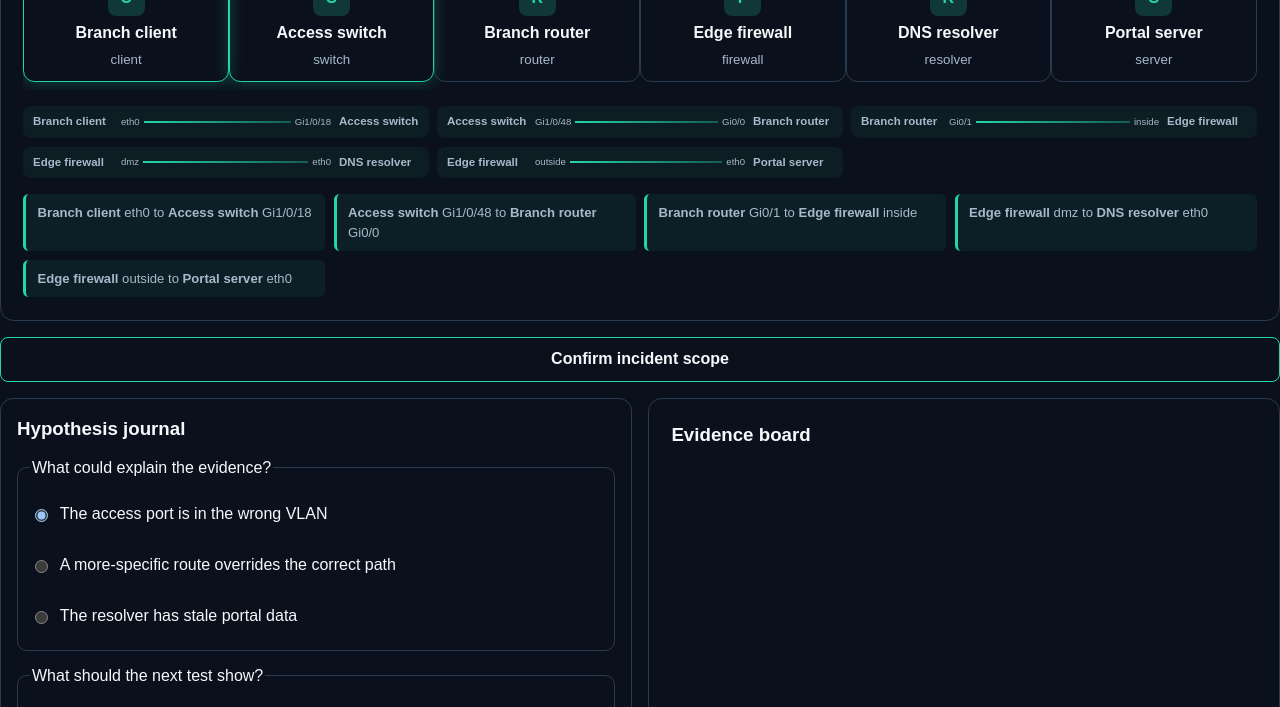
Test case: TroubleshootingWorkspace › explains premature remediation and records incorrect tests
(page scrolled)
Step 1. Click the button "Confirm incident scope" → (640, 359), box 0,337 -> 1279,382
(page scrolled)
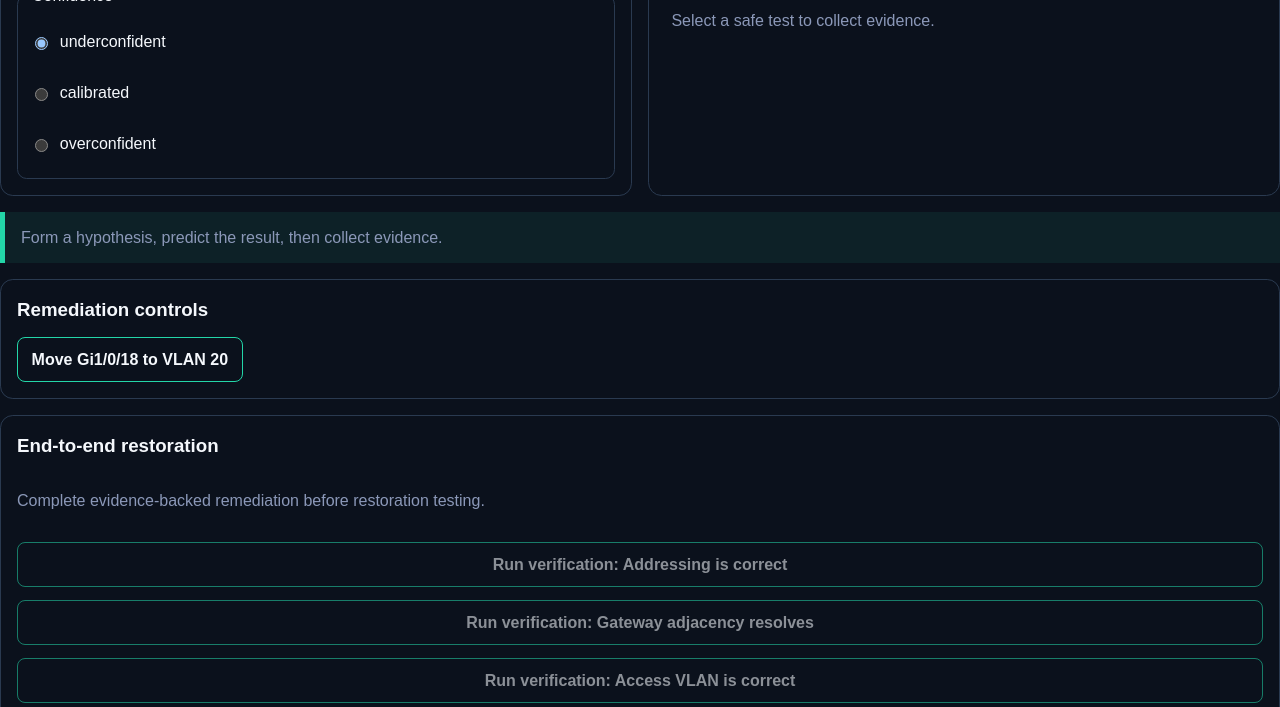
Step 2. Click the button "Move Gi1/0/18 to VLAN 20" → (130, 360), box 17,337 -> 243,382
(page scrolled)
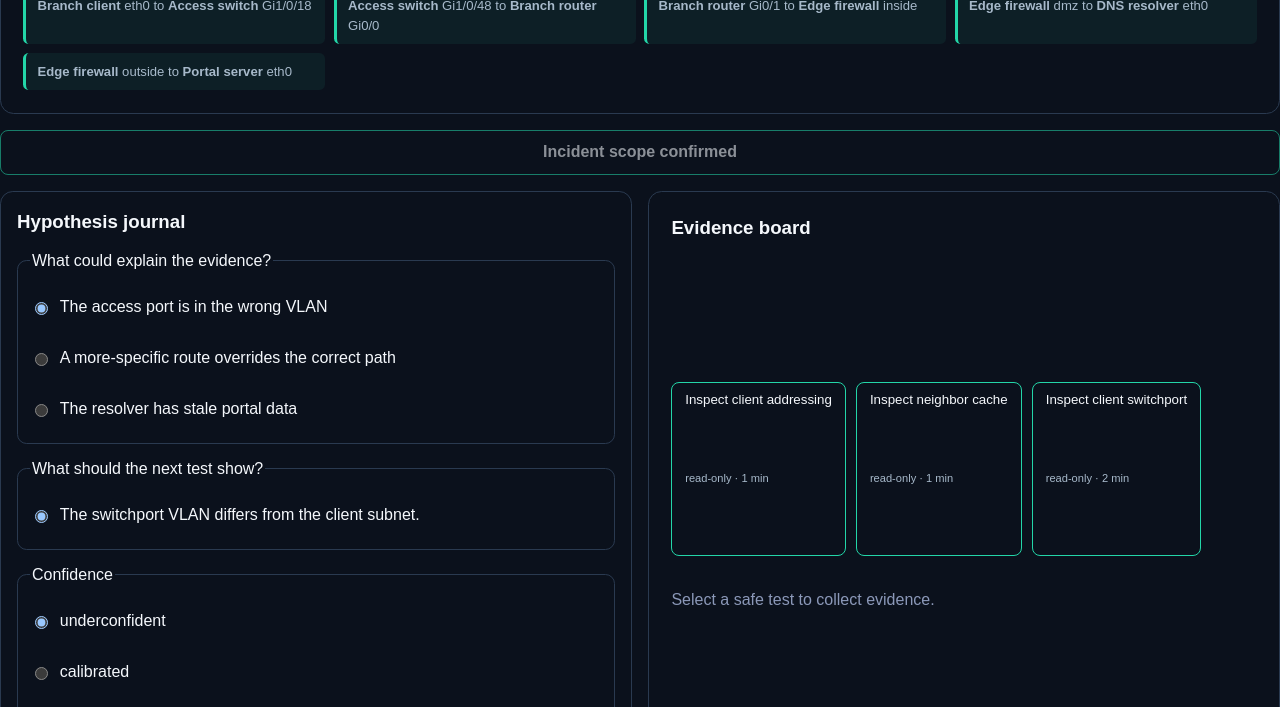
Step 3. Click the radio button labelled "A more-specific route overrides the correct path" → (42, 360), box 35,353 -> 48,366
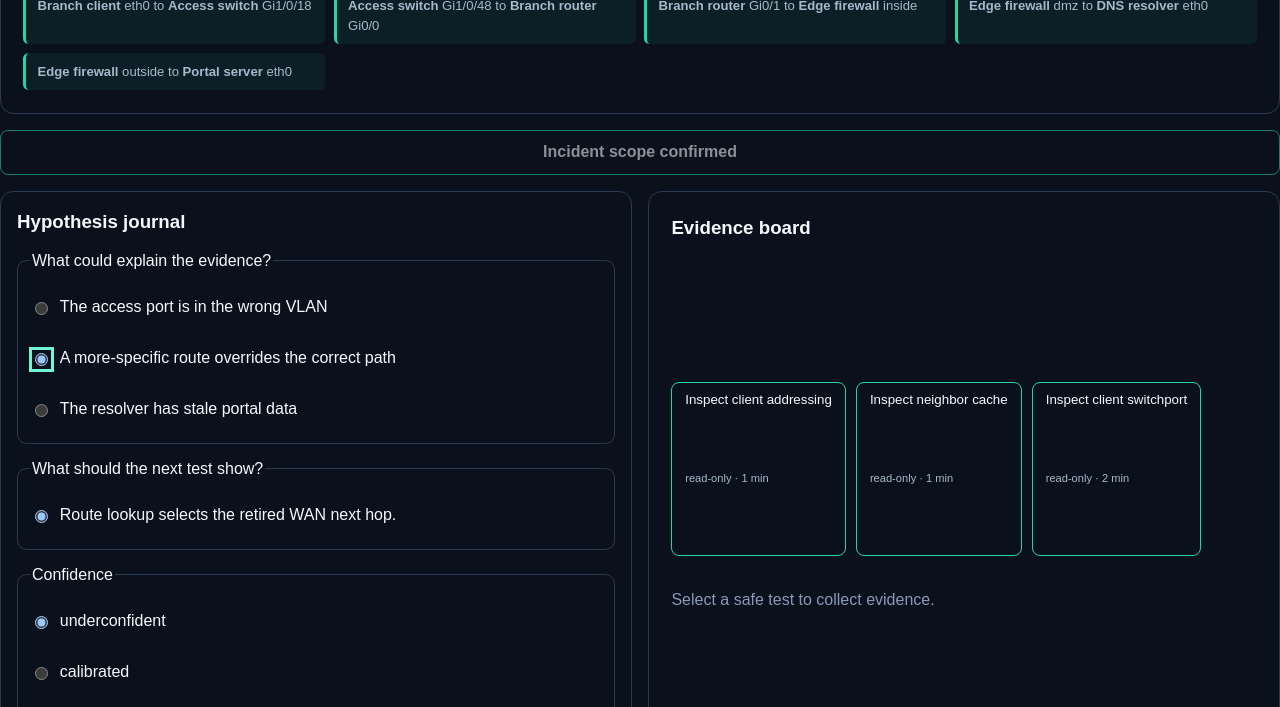
Step 4. Click the radio button labelled "Route lookup selects the retired WAN next hop." → (42, 516), box 35,510 -> 48,523
(page scrolled)
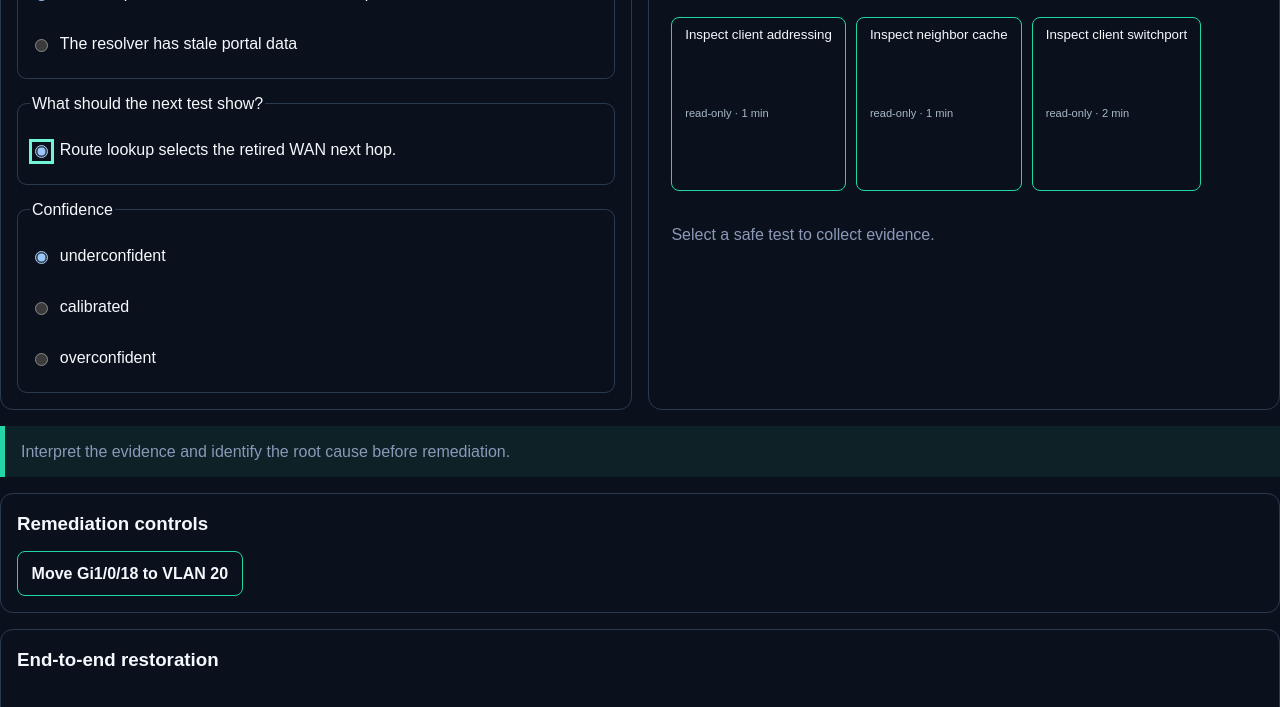
Step 5. Click the radio button labelled "overconfident" → (42, 360), box 35,353 -> 48,366
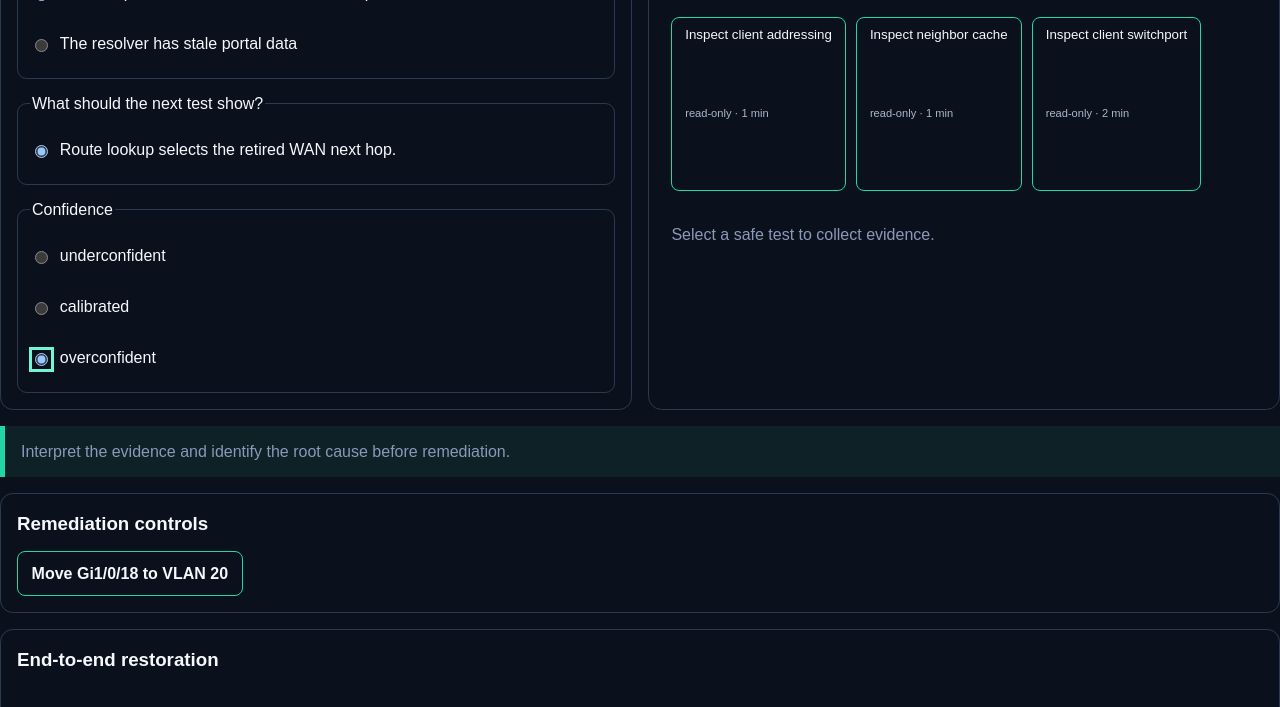
Step 6. Click the button "Inspect client switchport read-only · 2 min" → (1116, 104), box 1032,17 -> 1201,191
(page scrolled)
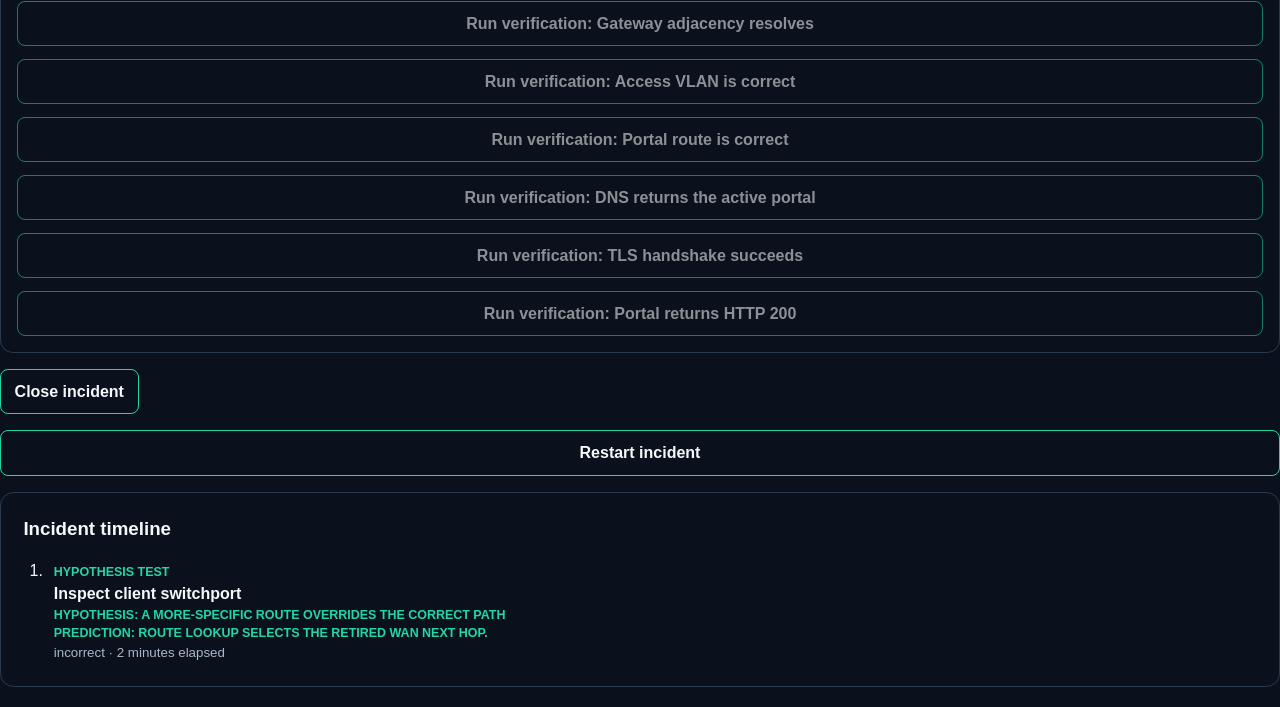
Expected: the list named "incident timeline" shows "incorrect", 54,645 -> 105,660
